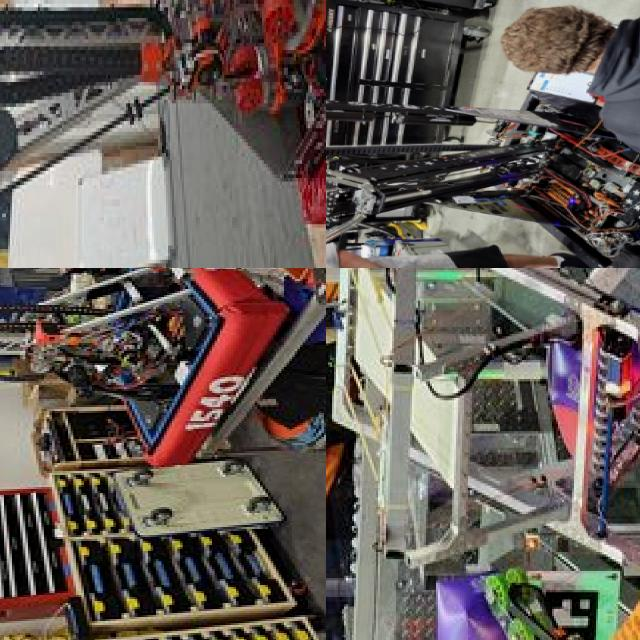FRC-Robots: (330, 268, 640, 640), (0, 0, 326, 226), (326, 54, 640, 268), (0, 268, 270, 466), (433, 560, 601, 640)
